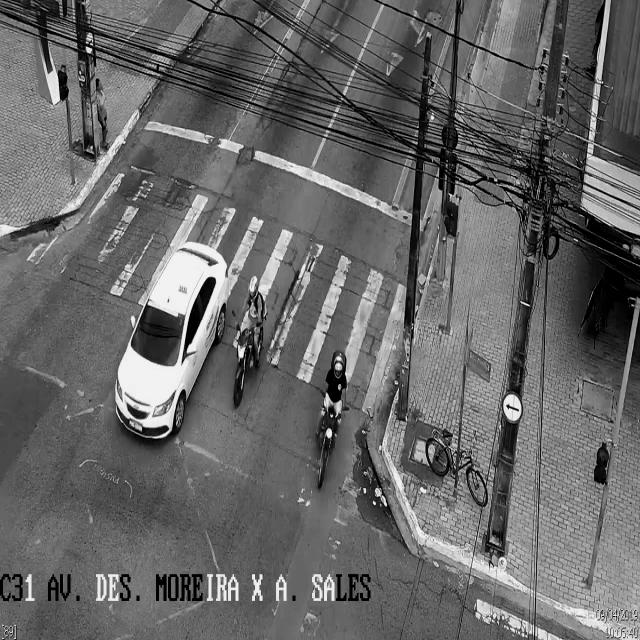Car: (113, 241, 227, 439)
Motorcycle: (314, 350, 348, 492), (233, 274, 265, 410)
